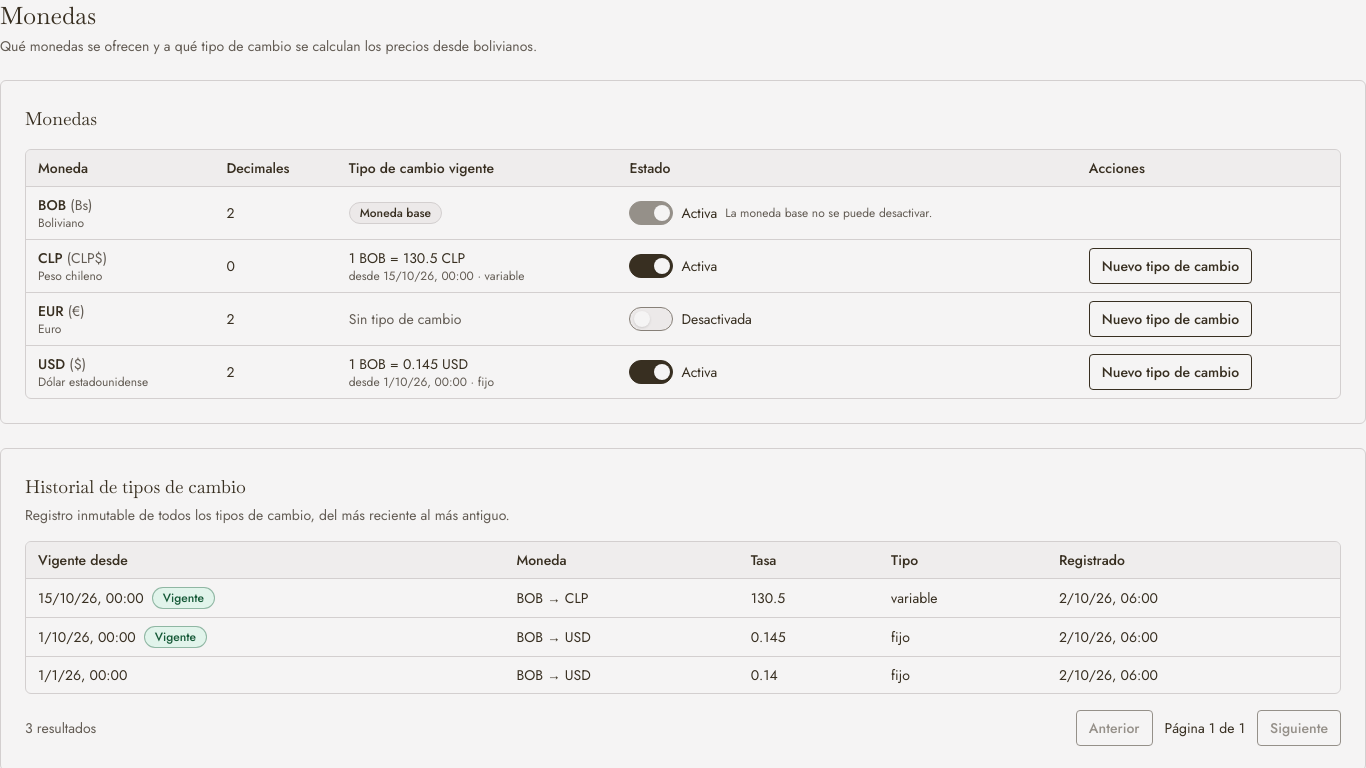
CurrenciesPage: activar y desactivar › activar pide confirmación; al cancelar no se toca nada
Expected: the text "Euro" is shown, [38, 320, 61, 338]
What coordinates should you click on to do the following:
click the switch named "Moneda Euro"
I would click on:
 (651, 319)
Its box is [629, 307, 673, 331].
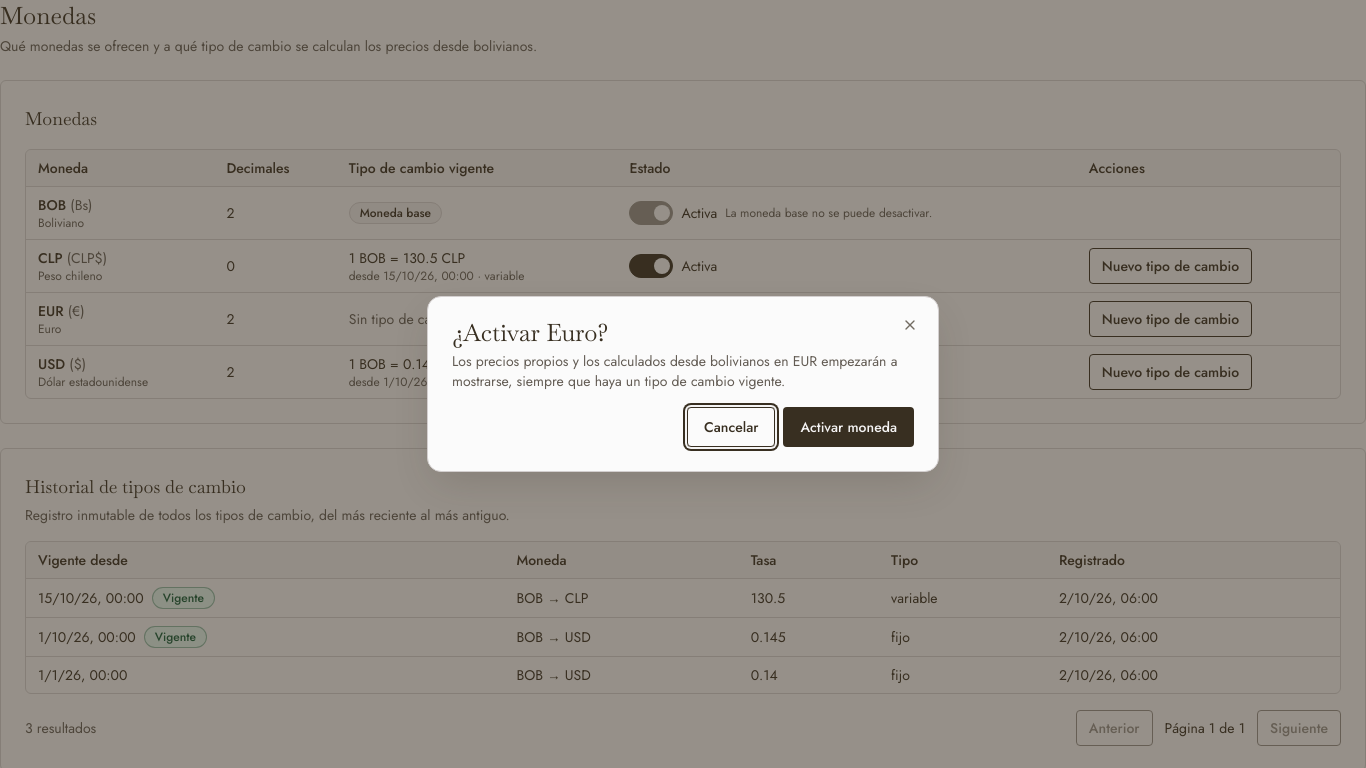
Result: the text "empezarán a mostrarse" is shown at [452, 351, 897, 391]
What coordinates should you click on to do the following:
click the button "Cancelar"
I would click on:
 (731, 427)
Its box is [687, 407, 775, 447].
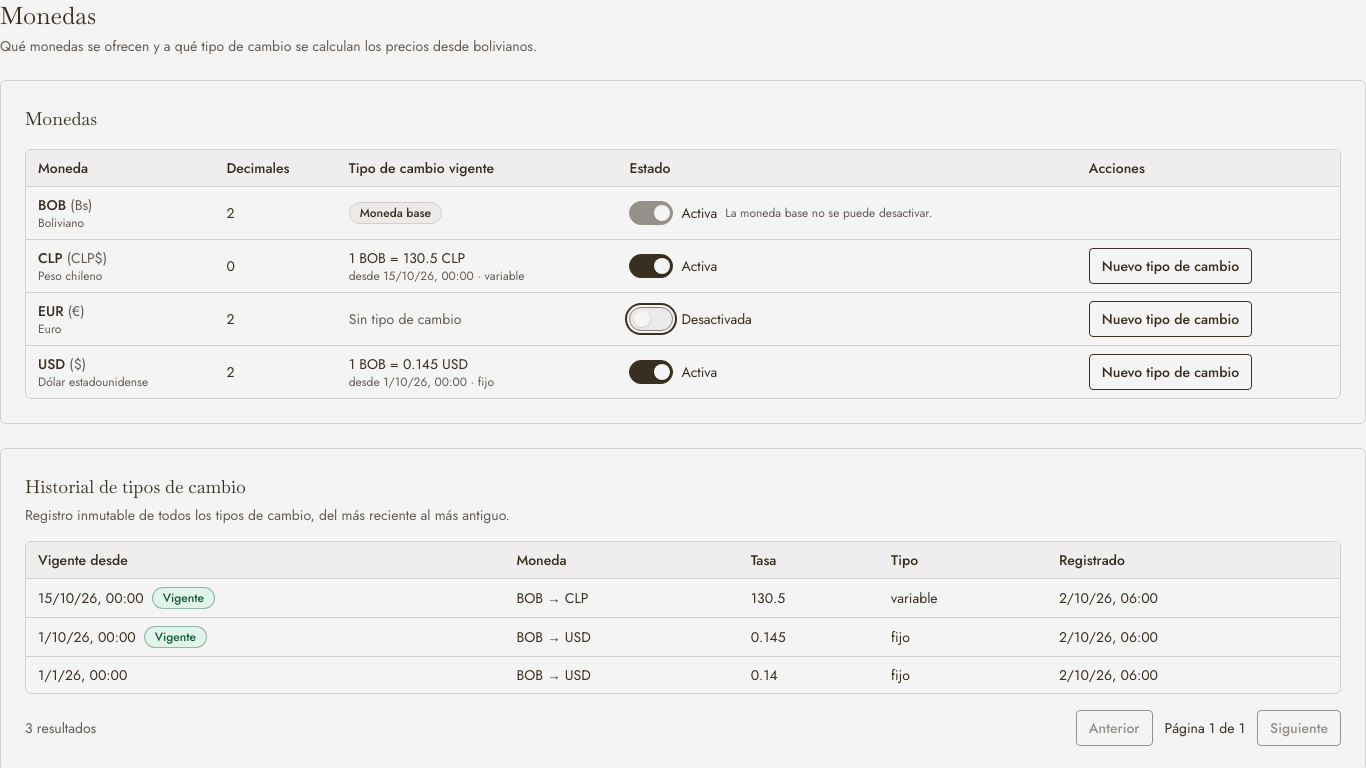
Result: the dialog is gone
